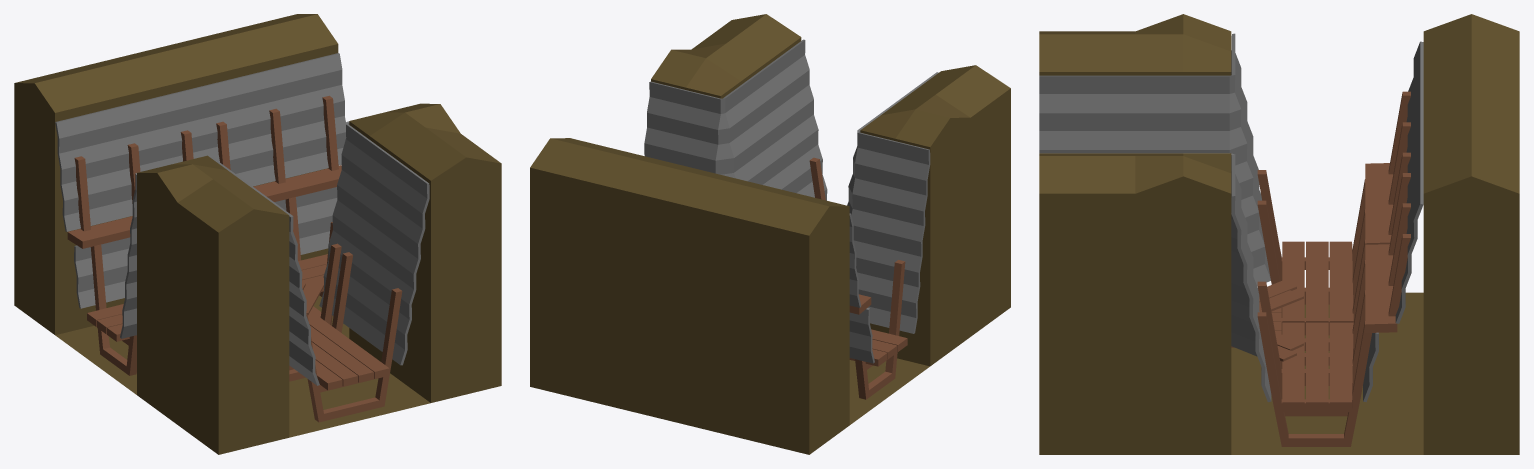
Rendered from Trenches T Section.fbx.
3 views of the same model, side by side, from view 1: azimuth 30°, elevation 25°; view 2: azimuth 150°, elevation 25°; view 3: azimuth 270°, elevation 25° (orthographic). The views are drawn at different scales.
Parts seen in each view (by area): view 1: Trench Dirt T-Section, Trenches T Section; view 2: Trench Dirt T-Section, Trenches T Section; view 3: Trench Dirt T-Section, Trenches T Section.
Part boxes in pixels (x1,y1,x2,y2): Trench Dirt T-Section: [14, 14, 501, 454]; Trenches T Section: [55, 53, 429, 422]; Trench Dirt T-Section: [530, 14, 1010, 454]; Trenches T Section: [644, 39, 938, 399]; Trench Dirt T-Section: [1039, 14, 1519, 454]; Trenches T Section: [1039, 33, 1423, 446].
Bounding box in the file's own units: 2000 × 1600 × 2500.
